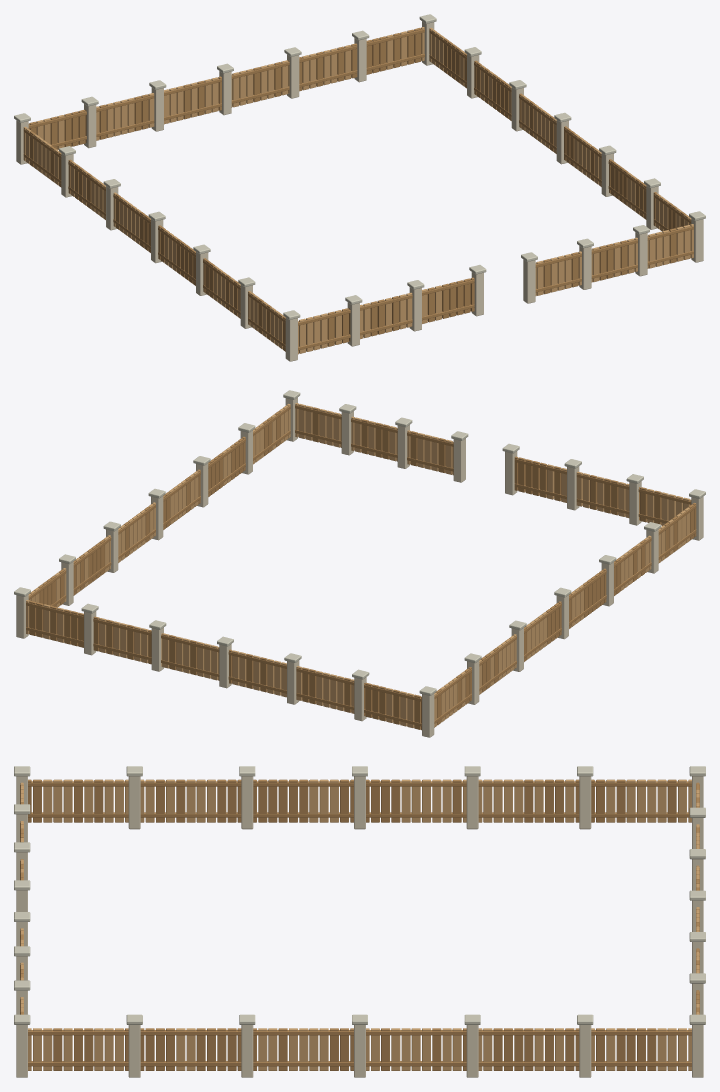
Rendered from SM_RelaxedNeighborHouse_Fence.fbx.
3 renders of one model, top to bottom at view 1: azimuth 30°, elevation 25°; view 2: azimuth 150°, elevation 25°; view 3: azimuth 270°, elevation 25°, orthographic. The views are drawn at different scales.
Visible parts, largest first — view 1: SM_RelaxedNeighborHouse_Fence; view 2: SM_RelaxedNeighborHouse_Fence; view 3: SM_RelaxedNeighborHouse_Fence.
Part boxes in pixels (left/top/right/bottom): SM_RelaxedNeighborHouse_Fence: left=14, top=14, right=705, bottom=361; SM_RelaxedNeighborHouse_Fence: left=14, top=390, right=705, bottom=737; SM_RelaxedNeighborHouse_Fence: left=14, top=766, right=705, bottom=1077.
Size of what is drawn, in the model's own units: 1377 by 1577 by 145.
